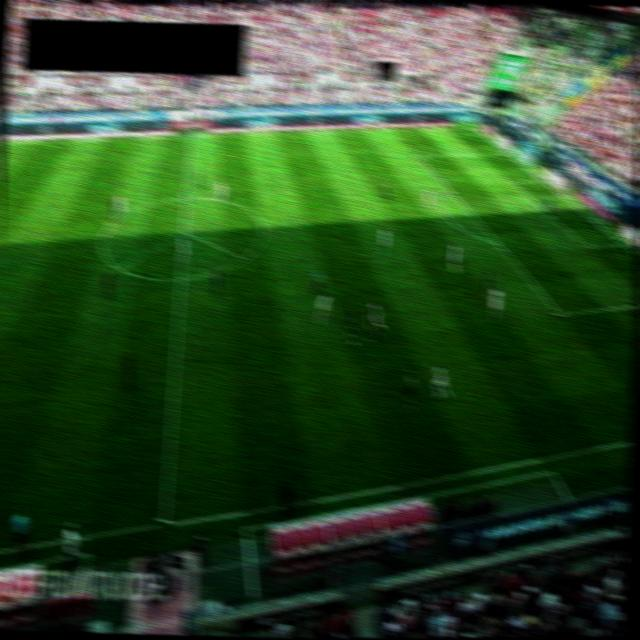bigarea_bottom_inner: (551, 309, 567, 320)
bigarea_top_inner: (410, 150, 426, 161)
bigarea_top_outter: (499, 147, 514, 158)
bottom_arc_area_intersection: (489, 237, 505, 249)
corner: (464, 120, 480, 132)
halfcircle_bottom: (172, 272, 188, 283)
halfcircle_top: (178, 191, 193, 202)
midline_bottom_intersection: (156, 517, 173, 531)
midline_top_intersection: (182, 131, 199, 142)
smallarea_bottom_inner: (578, 239, 594, 251)
smallarea_bottom_outter: (615, 237, 630, 249)
smallarea_top_inner: (504, 175, 520, 187)
smallarea_top_outter: (534, 172, 549, 185)
top_arc_area_intersection: (442, 184, 457, 195)
